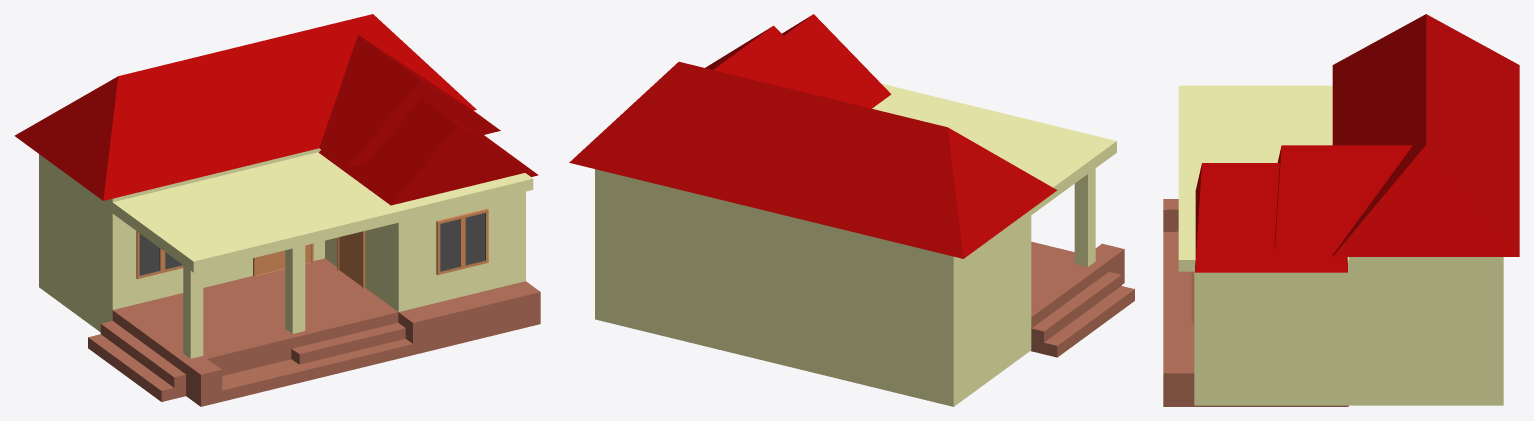
File: my_house.glb
3 views of the same model, side by side, from view 1: azimuth 30°, elevation 25°; view 2: azimuth 150°, elevation 25°; view 3: azimuth 270°, elevation 25° (orthographic). The views are drawn at different scales.
Parts seen in each view (by area): view 1: Roof.Long, Floor, Roof.flat, Room, GuestRoom, Roof.FrontBot, Roof.FrontTop, Window.Front, Tiang, Tiang.001, Door.side, Window.Front.2 (+1 smaller); view 2: Room, Roof.Long, Roof.flat, Floor, Roof.FrontTop, Roof.FrontBot, Tiang; view 3: Roof.Long, Room, GuestRoom, Roof.flat, Roof.FrontTop, Roof.FrontBot, Floor.
Boxes of the visible parts, x1,y1,x2,y2 form: Roof.Long: [14, 14, 476, 200]; Floor: [88, 258, 540, 406]; Roof.flat: [112, 152, 533, 272]; Room: [39, 148, 324, 331]; GuestRoom: [325, 191, 525, 311]; Roof.FrontBot: [318, 98, 538, 205]; Roof.FrontTop: [319, 35, 500, 168]; Window.Front: [436, 208, 488, 274]; Tiang: [183, 265, 203, 358]; Tiang.001: [285, 245, 305, 333]; Door.side: [337, 231, 365, 288]; Window.Front.2: [136, 231, 183, 279]; Room: [595, 169, 1031, 406]; Roof.Long: [569, 61, 1057, 258]; Roof.flat: [872, 83, 1116, 214]; Floor: [1031, 241, 1134, 357]; Roof.FrontTop: [705, 25, 848, 102]; Roof.FrontBot: [782, 14, 891, 108]; Tiang: [1074, 168, 1095, 266]; Roof.Long: [1332, 14, 1519, 256]; Room: [1349, 257, 1503, 405]; GuestRoom: [1194, 257, 1348, 405]; Roof.flat: [1178, 85, 1348, 271]; Roof.FrontTop: [1274, 145, 1412, 254]; Roof.FrontBot: [1195, 163, 1347, 272]; Floor: [1163, 199, 1348, 406].
Bounding box in the file's own units: 8.98 × 5.15 × 6.92.
